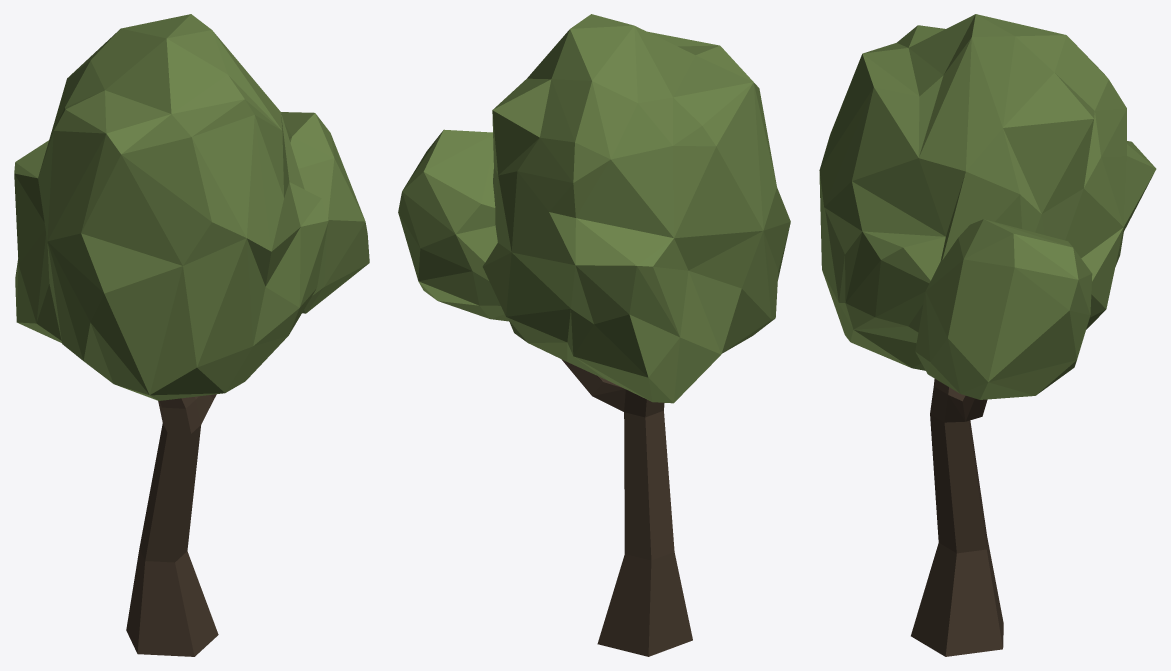
Rendered from Tree_18.gltf.
3 views of the same model, side by side, from view 1: azimuth 30°, elevation 25°; view 2: azimuth 150°, elevation 25°; view 3: azimuth 270°, elevation 25° (orthographic). The views are drawn at different scales.
Parts seen in each view (by area): view 1: Tree_18; view 2: Tree_18; view 3: Tree_18.
Boxes of the visible parts, x1,y1,x2,y2 form: Tree_18: (14, 14, 369, 656); Tree_18: (398, 14, 790, 656); Tree_18: (819, 14, 1156, 656).
Size of the model in its own units: 0.3705 by 0.6569 by 0.3135.
1 material, 1 textured.
